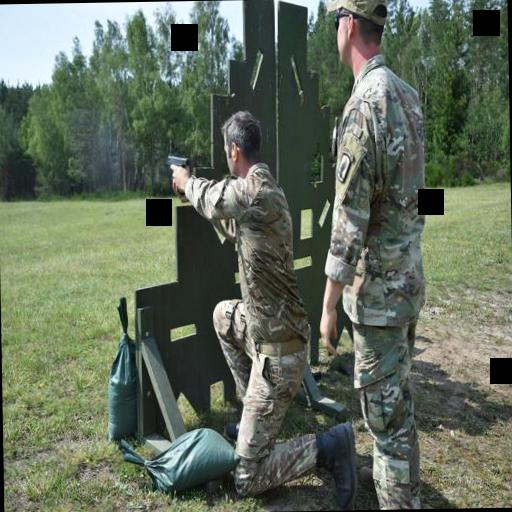Handgun: (164, 148, 189, 182)
